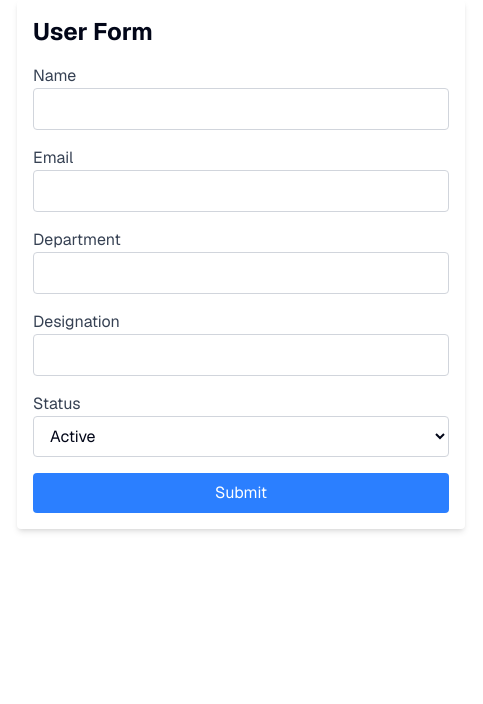
Test: UserForm Component › resets form after successful submission
Type "Adarsh" into the field labelled "Name" at [241, 109], box x1=33 y1=88 x2=449 y2=130
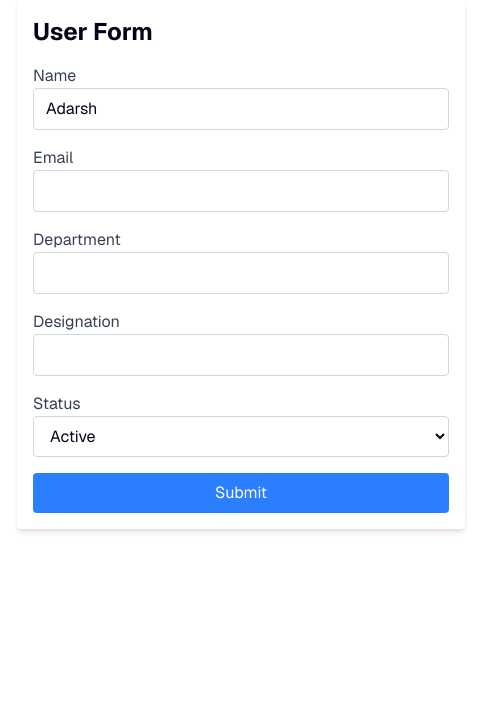
Type "adarsh@test.com" into the field labelled "Email" at [241, 191], box x1=33 y1=170 x2=449 y2=212
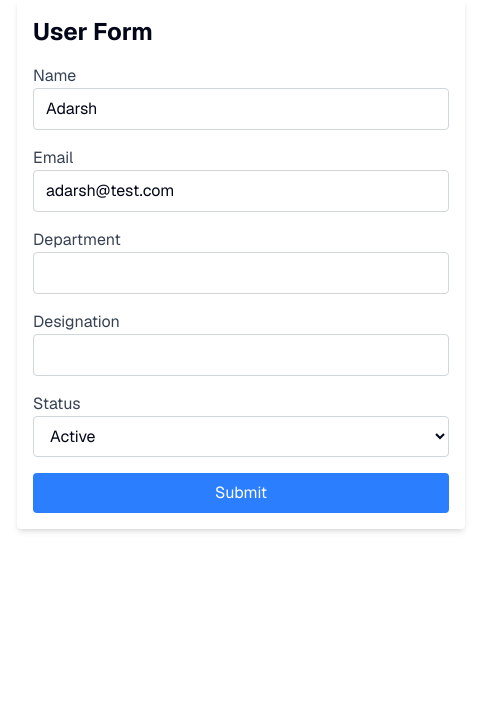
Type "Engineering" into the field labelled "Department" at [241, 273], box x1=33 y1=252 x2=449 y2=294
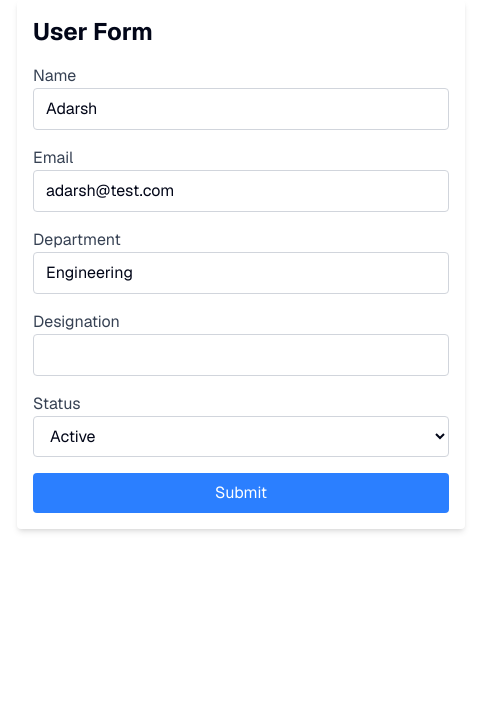
Type "Engineer" into the field labelled "Designation" at [241, 355], box x1=33 y1=334 x2=449 y2=376
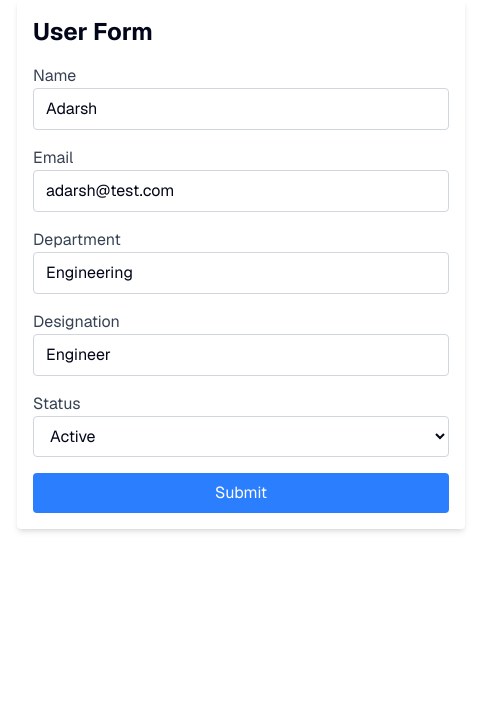
Select "Inactive" in the dropdown labelled "Status" at [241, 436], box x1=33 y1=416 x2=449 y2=457
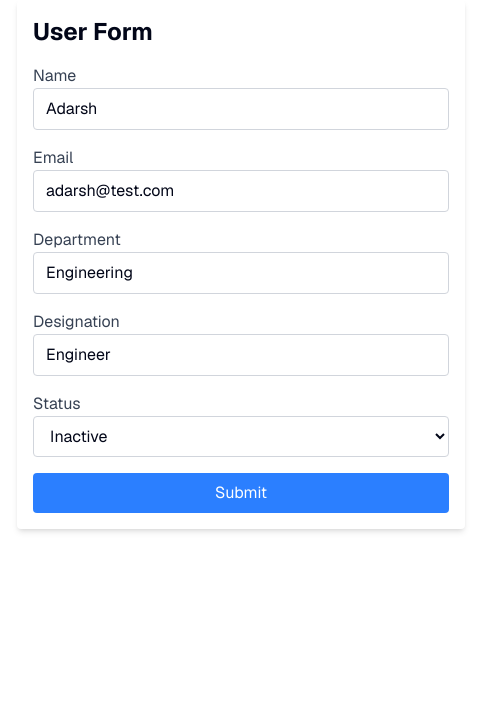
Click the button "Submit" at [241, 493], box x1=33 y1=473 x2=449 y2=513
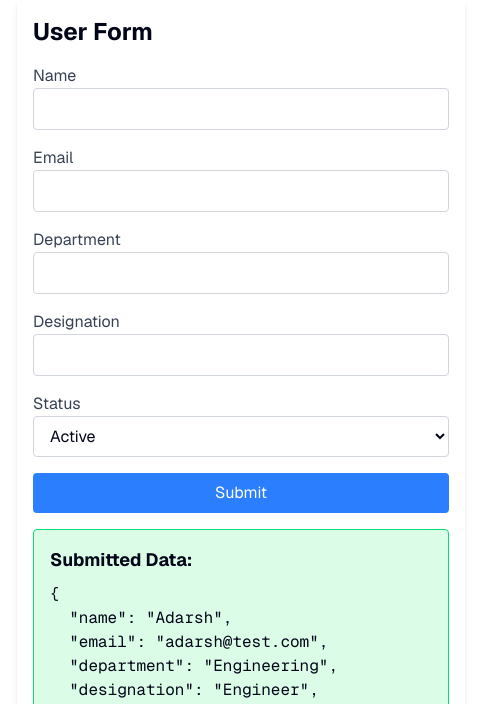
Expected: the heading "Submitted Data:" is shown, x1=50 y1=548 x2=192 y2=571
Expected: the field labelled "Name" is empty, x1=33 y1=88 x2=449 y2=130
